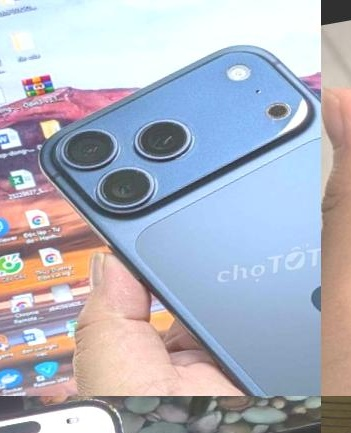scratch: (84, 396, 135, 424)
